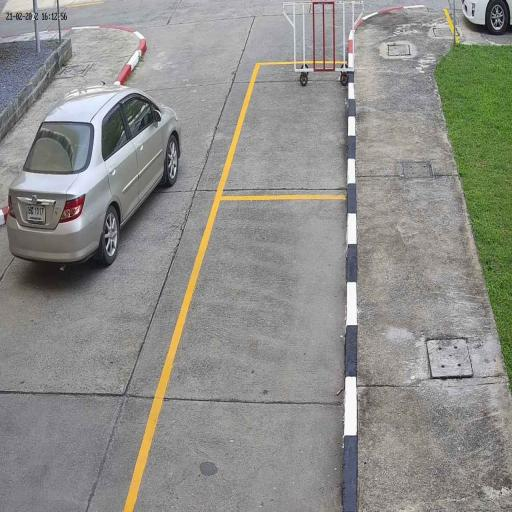car: (6, 84, 184, 269)
